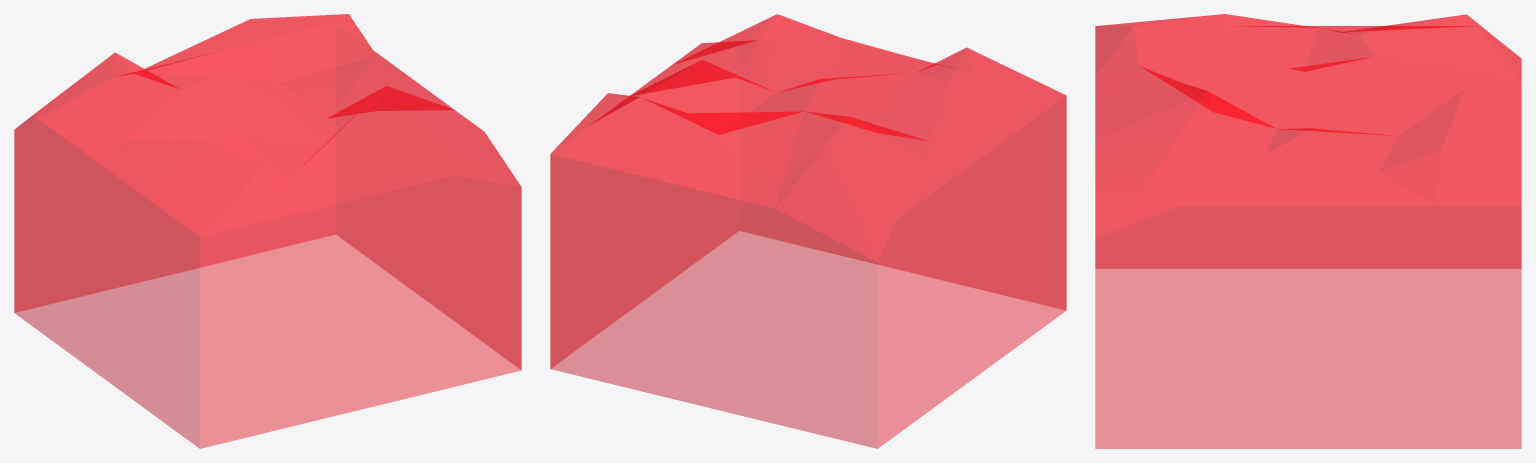
Rendered from PowerPilon@idle.fbx.
3 views of the same model, side by side, from view 1: azimuth 30°, elevation 25°; view 2: azimuth 150°, elevation 25°; view 3: azimuth 270°, elevation 25° (orthographic). The views are drawn at different scales.
Parts seen in each view (by area): view 1: pPlane3; view 2: pPlane3; view 3: pPlane3.
Part boxes in pixels (bbox=[...]): pPlane3: bbox=[14, 14, 521, 448]; pPlane3: bbox=[550, 14, 1066, 448]; pPlane3: bbox=[1095, 14, 1521, 448].
Size of the model in its own units: 654 by 525 by 654.
